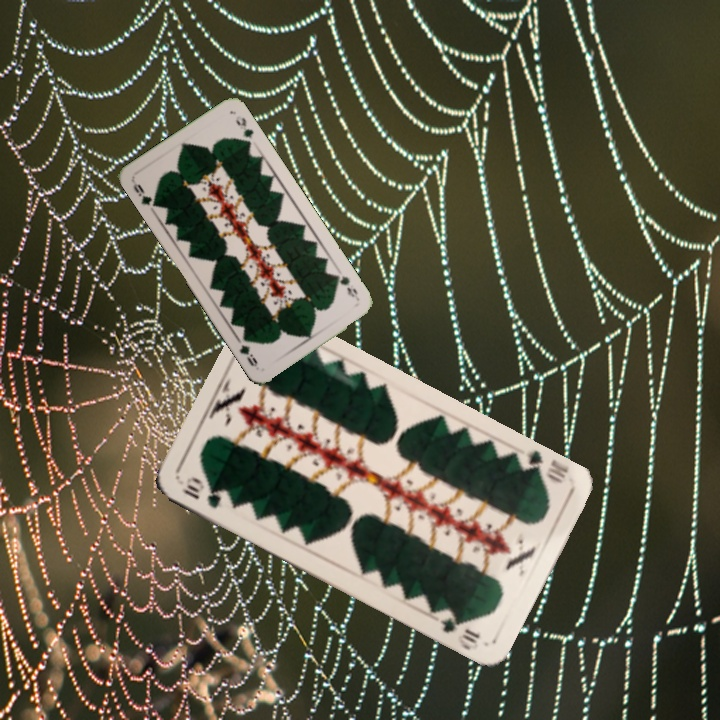G10: (515, 446, 572, 486), (177, 474, 224, 511)
G9: (129, 177, 162, 210), (330, 270, 362, 303)
